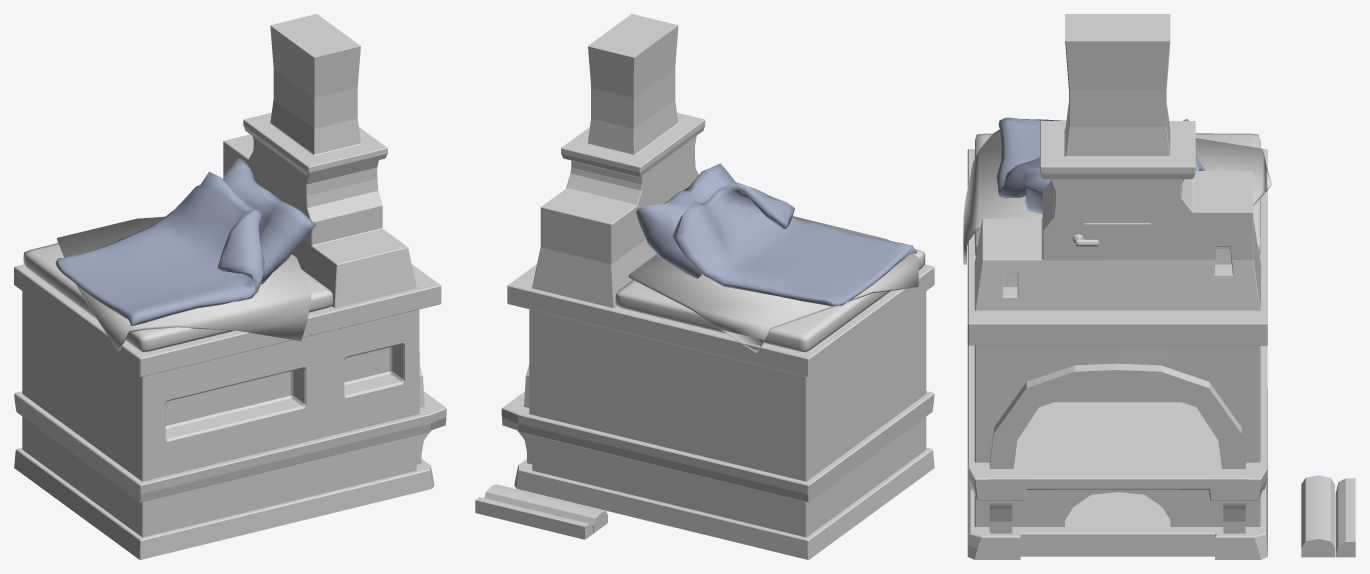
The model's file is bake_low.fbx.
3 renders of one model, left to right at view 1: azimuth 30°, elevation 25°; view 2: azimuth 150°, elevation 25°; view 3: azimuth 270°, elevation 25°, orthographic. The views are drawn at different scales.
Visible parts, largest first — view 1: bake_low, ba_blenket_low, ba_sheet_low, ba_pillow_low, ba_mattress_low; view 2: bake_low, ba_blenket_low, ba_sheet_low, ba_mattress_low, ba_pillow_low, ba_firewood_full_low, ba_firewood._half_low; view 3: bake_low, ba_sheet_low, ba_blenket_low, ba_firewood_full_low, ba_firewood._half_low, ba_mattress_low, ba_pillow_low.
Boxes of the visible parts, x1,y1,x2,y2 form: bake_low: (14,14,446,559); ba_blenket_low: (55,171,264,325); ba_sheet_low: (56,216,311,350); ba_pillow_low: (222,158,316,284); ba_mattress_low: (23,243,333,352); bake_low: (501,14,934,559); ba_blenket_low: (671,182,916,306); ba_sheet_low: (628,216,918,352); ba_mattress_low: (615,249,925,352); ba_pillow_low: (636,163,735,278); ba_firewood_full_low: (484,484,607,532); ba_firewood._half_low: (475,497,593,539); bake_low: (967,14,1267,559); ba_sheet_low: (963,129,1272,264); ba_blenket_low: (996,117,1205,198); ba_firewood_full_low: (1301,475,1334,557); ba_firewood._half_low: (1335,478,1355,557); ba_mattress_low: (974,133,1260,256); ba_pillow_low: (1023,163,1199,214).
Size of the model in its own units: 570 by 730 by 521.
